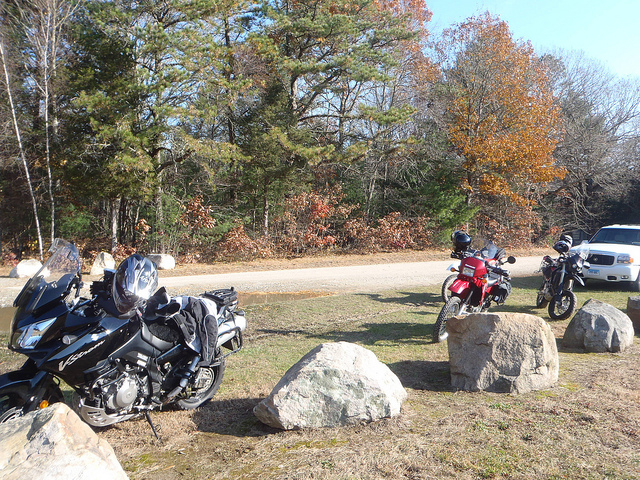Bike: (10, 250, 251, 416), (436, 233, 511, 318), (547, 234, 581, 313)
Car: (590, 218, 640, 290)
